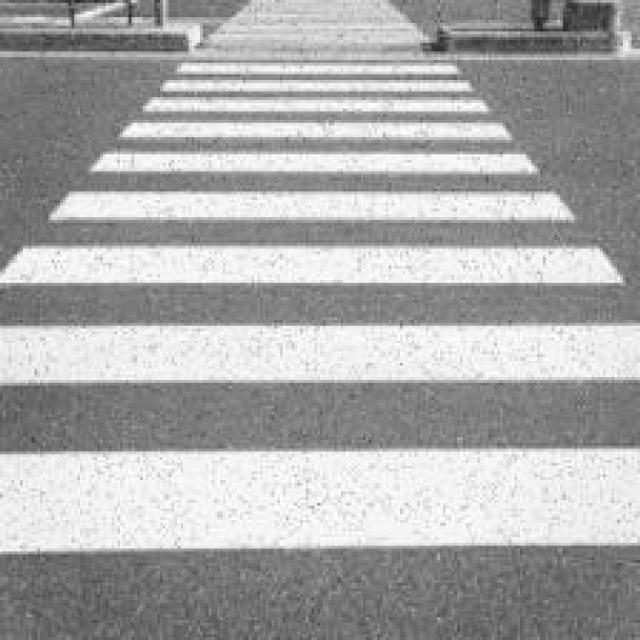crosswalk: (0, 56, 640, 559)
